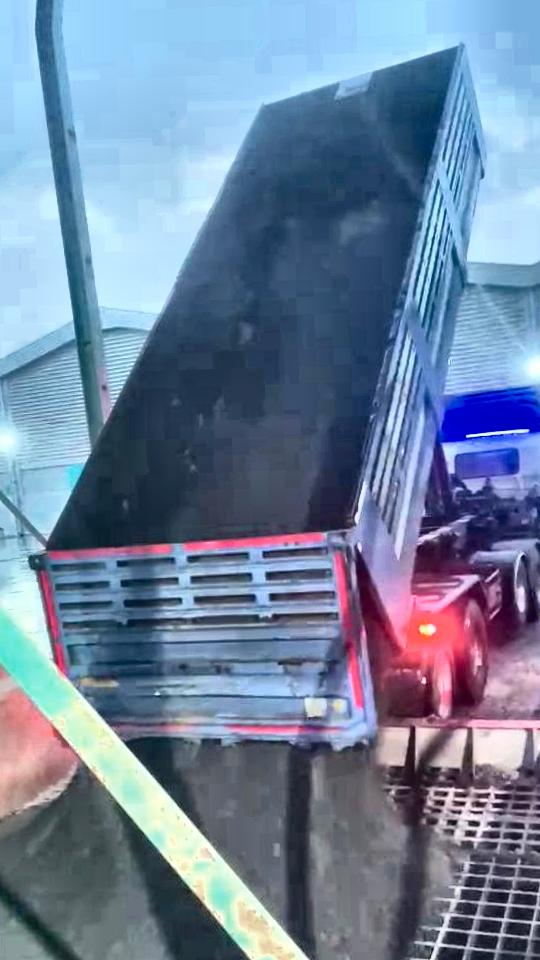gravel: (173, 208, 413, 539), (135, 740, 458, 960), (0, 768, 278, 960)
